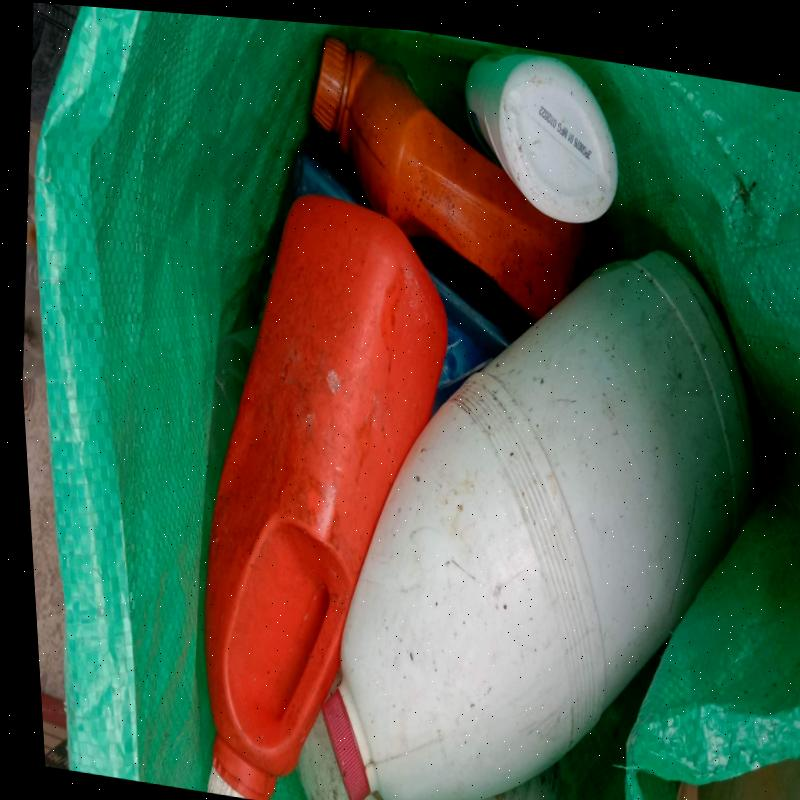plastic bottle: (324, 253, 759, 800), (203, 195, 448, 800), (313, 41, 591, 320), (465, 55, 619, 227)
